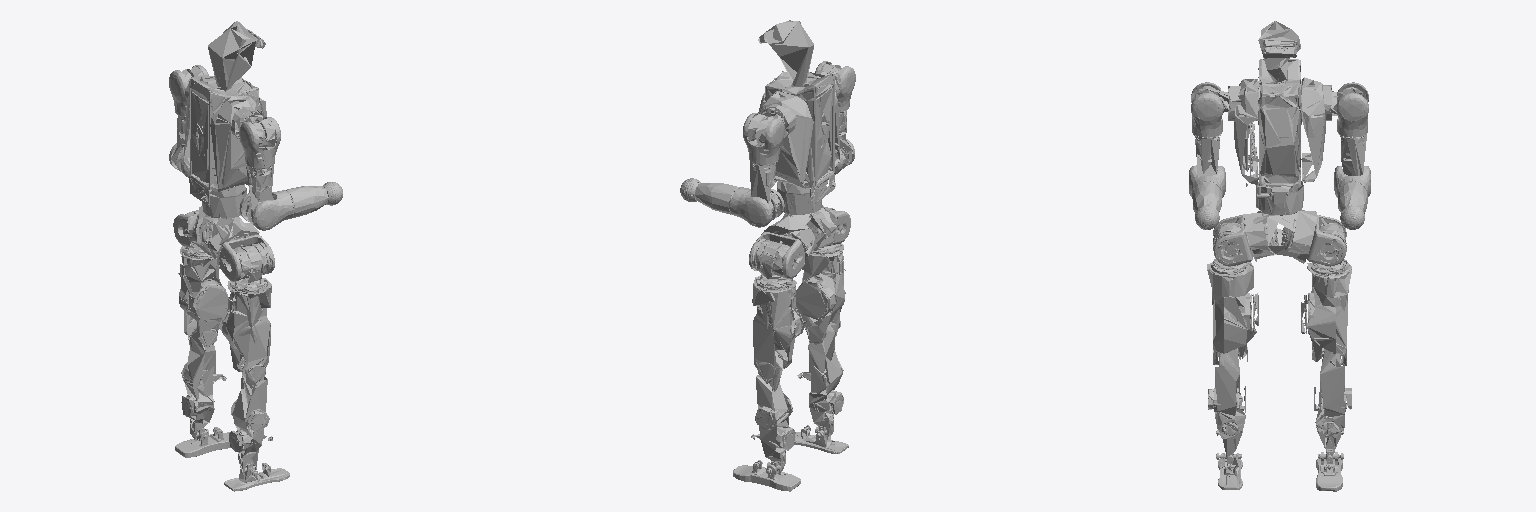
--- Render facts (derived) ---
3 views of the same robot in one strip: view 1: azimuth 30°, elevation 25°; view 2: azimuth 150°, elevation 25°; view 3: azimuth 270°, elevation 25° (orthographic).
Robot: GRMini1T1 — 29 links, 28 joints (23 revolute, 5 fixed); root link base_link; default pose: every joint at zero.
Visible links, largest first — view 1: torso_link, right_thigh_yaw_link, left_thigh_yaw_link, left_shank_pitch_link, right_shank_pitch_link, base_link, right_thigh_roll_link, right_lower_arm_pitch_link, right_upper_arm_roll_link, right_upper_arm_yaw_link, waist_yaw_link, right_thigh_pitch_link (+5 smaller); view 2: torso_link, left_thigh_yaw_link, right_thigh_yaw_link, right_shank_pitch_link, left_shank_pitch_link, base_link, left_thigh_roll_link, left_lower_arm_pitch_link, left_upper_arm_roll_link, left_foot_pitch_link, left_upper_arm_yaw_link, left_thigh_pitch_link (+5 smaller); view 3: torso_link, right_thigh_yaw_link, left_thigh_yaw_link, base_link, right_shank_pitch_link, left_shank_pitch_link, left_upper_arm_roll_link, right_upper_arm_roll_link, right_thigh_pitch_link, left_thigh_pitch_link, left_upper_arm_yaw_link, waist_yaw_link (+9 smaller).
Link boxes in pixels (left/top/right/bottom): torso_link: left=184, top=21, right=266, bottom=206; right_thigh_yaw_link: left=219, top=278, right=271, bottom=385; left_thigh_yaw_link: left=178, top=246, right=228, bottom=347; left_shank_pitch_link: left=181, top=319, right=226, bottom=438; right_shank_pitch_link: left=229, top=360, right=272, bottom=473; base_link: left=188, top=206, right=259, bottom=264; right_thigh_roll_link: left=230, top=242, right=271, bottom=287; right_lower_arm_pitch_link: left=239, top=190, right=293, bottom=230; right_upper_arm_roll_link: left=239, top=117, right=280, bottom=167; right_upper_arm_yaw_link: left=245, top=164, right=273, bottom=224; waist_yaw_link: left=202, top=185, right=246, bottom=218; right_thigh_pitch_link: left=219, top=235, right=274, bottom=281; torso_link: left=758, top=20, right=839, bottom=203; left_thigh_yaw_link: left=752, top=276, right=806, bottom=383; right_thigh_yaw_link: left=794, top=243, right=845, bottom=344; right_shank_pitch_link: left=797, top=320, right=843, bottom=436; left_shank_pitch_link: left=751, top=351, right=795, bottom=470; base_link: left=764, top=205, right=836, bottom=259; left_thigh_roll_link: left=752, top=239, right=794, bottom=285; left_lower_arm_pitch_link: left=730, top=187, right=784, bottom=227; left_upper_arm_roll_link: left=743, top=113, right=784, bottom=164; left_foot_pitch_link: left=733, top=460, right=800, bottom=491; left_upper_arm_yaw_link: left=750, top=161, right=780, bottom=220; left_thigh_pitch_link: left=749, top=232, right=804, bottom=278; torso_link: left=1228, top=21, right=1331, bottom=192; right_thigh_yaw_link: left=1207, top=262, right=1258, bottom=364; left_thigh_yaw_link: left=1301, top=262, right=1351, bottom=365; base_link: left=1243, top=210, right=1316, bottom=263; right_shank_pitch_link: left=1208, top=348, right=1245, bottom=456; left_shank_pitch_link: left=1314, top=348, right=1351, bottom=453; left_upper_arm_roll_link: left=1336, top=82, right=1368, bottom=137; right_upper_arm_roll_link: left=1191, top=82, right=1223, bottom=137; right_thigh_pitch_link: left=1213, top=215, right=1252, bottom=265; left_thigh_pitch_link: left=1307, top=215, right=1346, bottom=265; left_upper_arm_yaw_link: left=1338, top=133, right=1366, bottom=175; waist_yaw_link: left=1256, top=181, right=1303, bottom=214.
Bounding box of the posed robot: 0.3216 × 0.4412 × 1.21 m (x, y, z).
Meshes: 29 distinct files referenced, 29 mesh visuals loaded (29 binary STL).

The robot description file, URDF, robot "GRMini1T1":
<?xml version="1.0" encoding="utf-8"?>
<!-- This URDF was automatically created by SolidWorks to URDF Exporter! Originally created by Stephen Brawner ([email redacted]) 
     Commit Version: 1.6.0-4-g7f85cfe  Build Version: 1.6.7995.38578
     For more information, please see http://wiki.ros.org/sw_urdf_exporter -->
<robot
        name="GRMini1T1">
    <link
            name="base_link">
        <inertial>
            <origin
                    xyz="-0.00058375 -1.4517E-06 -0.063447"
                    rpy="0 0 0"/>
            <mass
                    value="3.1357"/>
            <inertia
                    ixx="0.0095393"
                    ixy="-2.156E-05"
                    ixz="-8E-08"
                    iyy="0.013549"
                    iyz="-3.997E-05"
                    izz="0.010053"/>
        </inertial>
        <visual>
            <origin
                    xyz="0 0 0"
                    rpy="0 0 0"/>
            <geometry>
                <mesh
                        filename="../meshes/base_link.STL"/>
            </geometry>
            <material
                    name="">
                <color
                        rgba="0.75294 0.75294 0.75294 1"/>
            </material>
        </visual>
        <collision>
            <origin
                    xyz="0 0 0"
                    rpy="0 0 0"/>
            <geometry>
                <mesh
                        filename="../meshes/base_link.STL"/>
            </geometry>
        </collision>
    </link>
    <link
            name="waist_yaw_link">
        <inertial>
            <origin
                    xyz="-0.0022054 0.00010046 0.025305"
                    rpy="0 0 0"/>
            <mass
                    value="0.92522"/>
            <inertia
                    ixx="0.001509"
                    ixy="-2.322E-05"
                    ixz="9.2E-07"
                    iyy="0.0012082"
                    iyz="2.75E-06"
                    izz="0.001278"/>
        </inertial>
        <visual>
            <origin
                    xyz="0 0 0"
                    rpy="0 0 0"/>
            <geometry>
                <mesh
                        filename="../meshes/waist_yaw_link.STL"/>
            </geometry>
            <material
                    name="">
                <color
                        rgba="0.75294 0.75294 0.75294 1"/>
            </material>
        </visual>
        <collision>
            <origin
                    xyz="0 0 0"
                    rpy="0 0 0"/>
            <geometry>
                <mesh
                        filename="../meshes/waist_yaw_link.STL"/>
            </geometry>
        </collision>
    </link>
    <joint
            name="waist_yaw_joint"
            type="revolute">
        <origin
                xyz="0 0 0.015"
                rpy="0 0 0"/>
        <parent
                link="base_link"/>
        <child
                link="waist_yaw_link"/>
        <axis
                xyz="0 0 1"/>
        <limit
                lower="-2.618"
                upper="2.618"
                effort="59.8"
                velocity="12.252"/>
    </joint>
    <link
            name="torso_link">
        <inertial>
            <origin
                    xyz="0.0041208 0.0024646 -0.051503"
                    rpy="0 0 0"/>
            <mass
                    value="7.84667176"/>
            <inertia
                    ixx="0.03712429"
                    ixy="-0.00061932"
                    ixz="0.00101372"
                    iyy="0.08563448"
                    iyz="-0.00036419"
                    izz="0.07498642"/>
        </inertial>
        <visual>
            <origin
                    xyz="0 0 0"
                    rpy="0 0 0"/>
            <geometry>
                <mesh
                        filename="../meshes/torso_link.STL"/>
            </geometry>
            <material
                    name="">
                <color
                        rgba="0.75294 0.75294 0.75294 1"/>
            </material>
        </visual>
        <collision>
            <origin
                    xyz="0 0 0"
                    rpy="0 0 0"/>
            <geometry>
                <mesh
                        filename="../meshes/torso_link.STL"/>
            </geometry>
        </collision>
    </link>
    <joint
            name="torso_joint"
            type="fixed">
        <origin
                xyz="0 0 0.2604"
                rpy="0 0 0"/>
        <parent
                link="waist_yaw_link"/>
        <child
                link="torso_link"/>
        <axis
                xyz="0 0 0"/>
    </joint>
    <link
            name="imu_link">
        <inertial>
            <origin
                    xyz="5.3169E-08 -0.0070317 0.0021507"
                    rpy="0 0 0"/>
            <mass
                    value="0.0417145"/>
            <inertia
                    ixx="2.651E-05"
                    ixy="0"
                    ixz="-2.8E-07"
                    iyy="2.209E-05"
                    iyz="0"
                    izz="1.049E-05"/>
        </inertial>
        <visual>
            <origin
                    xyz="0 0 0"
                    rpy="0 0 0"/>
            <geometry>
                <mesh
                        filename="../meshes/imu_link.STL"/>
            </geometry>
            <material
                    name="">
                <color
                        rgba="0.75294 0.75294 0.75294 1"/>
            </material>
        </visual>
        <collision>
            <origin
                    xyz="0 0 0"
                    rpy="0 0 0"/>
            <geometry>
                <mesh
                        filename="../meshes/imu_link.STL"/>
            </geometry>
        </collision>
    </link>
    <joint
            name="imu_joint"
            type="fixed">
        <origin
                xyz="0.07875 0 -0.2068"
                rpy="0 0 0"/>
        <parent
                link="torso_link"/>
        <child
                link="imu_link"/>
        <axis
                xyz="0 0 0"/>
    </joint>
    <link
            name="camera_link">
        <inertial>
            <origin
                    xyz="0.0099227 0.0014966 8.1692E-05"
                    rpy="0 0 0"/>
            <mass
                    value="0.0985531"/>
            <inertia
                    ixx="5.333E-05"
                    ixy="1.41E-06"
                    ixz="2.37E-05"
                    iyy="6.584E-05"
                    iyz="6.7E-07"
                    izz="2.601E-05"/>
        </inertial>
        <visual>
            <origin
                    xyz="0 0 0"
                    rpy="0 0 0"/>
            <geometry>
                <mesh
                        filename="../meshes/camera_link.STL"/>
            </geometry>
            <material
                    name="">
                <color
                        rgba="0.75294 0.75294 0.75294 1"/>
            </material>
        </visual>
        <collision>
            <origin
                    xyz="0 0 0"
                    rpy="0 0 0"/>
            <geometry>
                <mesh
                        filename="../meshes/camera_link.STL"/>
            </geometry>
        </collision>
    </link>
    <joint
            name="camera_joint"
            type="fixed">
        <origin
                xyz="0.071504 0 0.1798"
                rpy="0 0.5236 0"/>
        <parent
                link="torso_link"/>
        <child
                link="camera_link"/>
        <axis
                xyz="0 0 0"/>
    </joint>
    <link
            name="left_upper_arm_pitch_link">
        <inertial>
            <origin
                    xyz="0.0004349 0.07265 6.9487E-06"
                    rpy="0 0 0"/>
            <mass
                    value="0.88423"/>
            <inertia
                    ixx="0.0018303"
                    ixy="-1E-07"
                    ixz="1.154E-05"
                    iyy="0.0018418"
                    iyz="-6.2E-07"
                    izz="0.00062558"/>
        </inertial>
        <visual>
            <origin
                    xyz="0 0 0"
                    rpy="0 0 0"/>
            <geometry>
                <mesh
                        filename="../meshes/left_upper_arm_pitch_link.STL"/>
            </geometry>
            <material
                    name="">
                <color
                        rgba="0.75294 0.75294 0.75294 1"/>
            </material>
        </visual>
        <collision>
            <origin
                    xyz="0 0 0"
                    rpy="0 0 0"/>
            <geometry>
                <mesh
                        filename="../meshes/left_upper_arm_pitch_link.STL"/>
            </geometry>
        </collision>
    </link>
    <joint
            name="left_shoulder_pitch_joint"
            type="revolute">
        <origin
                xyz="0 0.09365 0"
                rpy="0 0 0"/>
        <parent
                link="torso_link"/>
        <child
                link="left_upper_arm_pitch_link"/>
        <axis
                xyz="0 1 0"/>
        <limit
                lower="-2.967"
                upper="2.967"
                effort="59.8"
                velocity="12.252"/>
    </joint>
    <link
            name="left_upper_arm_roll_link">
        <inertial>
            <origin
                    xyz="0.0071999 0.00095188 -0.031174"
                    rpy="0 0 0"/>
            <mass
                    value="0.71516"/>
            <inertia
                    ixx="0.001714"
                    ixy="-0.00014319"
                    ixz="5E-07"
                    iyy="0.00041667"
                    iyz="-4.08E-06"
                    izz="0.0018111"/>
        </inertial>
        <visual>
            <origin
                    xyz="0 0 0"
                    rpy="0 0 0"/>
            <geometry>
                <mesh
                        filename="../meshes/left_upper_arm_roll_link.STL"/>
            </geometry>
            <material
                    name="">
                <color
                        rgba="0.75294 0.75294 0.75294 1"/>
            </material>
        </visual>
        <collision>
            <origin
                    xyz="0 0 0"
                    rpy="0 0 0"/>
            <geometry>
                <mesh
                        filename="../meshes/left_upper_arm_roll_link.STL"/>
            </geometry>
        </collision>
    </link>
    <joint
            name="left_shoulder_roll_joint"
            type="revolute">
        <origin
                xyz="0 0.082 0"
                rpy="0 0 0"/>
        <parent
                link="left_upper_arm_pitch_link"/>
        <child
                link="left_upper_arm_roll_link"/>
        <axis
                xyz="1 0 0"/>
        <limit
                lower="-0.175"
                upper="2.792"
                effort="29.3"
                velocity="13.927"/>
    </joint>
    <link
            name="left_upper_arm_yaw_link">
        <inertial>
            <origin
                    xyz="-0.00024227 -6.5025E-05 -0.055988"
                    rpy="0 0 0"/>
            <mass
                    value="0.91461"/>
            <inertia
                    ixx="0.0030946"
                    ixy="4.01E-06"
                    ixz="2.64E-06"
                    iyy="0.00073776"
                    iyz="-1.877E-05"
                    izz="0.0030869"/>
        </inertial>
        <visual>
            <origin
                    xyz="0 0 0"
                    rpy="0 0 0"/>
            <geometry>
                <mesh
                        filename="../meshes/left_upper_arm_yaw_link.STL"/>
            </geometry>
            <material
                    name="">
                <color
                        rgba="0.75294 0.75294 0.75294 1"/>
            </material>
        </visual>
        <collision>
            <origin
                    xyz="0 0 0"
                    rpy="0 0 0"/>
            <geometry>
                <mesh
                        filename="../meshes/left_upper_arm_yaw_link.STL"/>
            </geometry>
        </collision>
    </link>
    <joint
            name="left_shoulder_yaw_joint"
            type="revolute">
        <origin
                xyz="0 0 -0.105"
                rpy="0 0 0"/>
        <parent
                link="left_upper_arm_roll_link"/>
        <child
                link="left_upper_arm_yaw_link"/>
        <axis
                xyz="0 0 1"/>
        <limit
                lower="-1.833"
                upper="1.833"
                effort="29.3"
                velocity="13.927"/>
    </joint>
    <link
            name="left_lower_arm_pitch_link">
        <inertial>
            <origin
                    xyz="0.031249 0.0068387 -0.00086783"
                    rpy="0 0 0"/>
            <mass
                    value="0.71626"/>
            <inertia
                    ixx="0.00041877"
                    ixy="-5E-06"
                    ixz="0.00014466"
                    iyy="0.0018113"
                    iyz="-8.1E-07"
                    izz="0.0017159"/>
        </inertial>
        <visual>
            <origin
                    xyz="0 0 0"
                    rpy="0 0 0"/>
            <geometry>
                <mesh
                        filename="../meshes/left_lower_arm_pitch_link.STL"/>
            </geometry>
            <material
                    name="">
                <color
                        rgba="0.75294 0.75294 0.75294 1"/>
            </material>
        </visual>
        <collision>
            <origin
                    xyz="0 0 0"
                    rpy="0 0 0"/>
            <geometry>
                <mesh
                        filename="../meshes/left_lower_arm_pitch_link.STL"/>
            </geometry>
        </collision>
    </link>
    <joint
            name="left_elbow_pitch_joint"
            type="revolute">
        <origin
                xyz="0 0 -0.105"
                rpy="0 0 0"/>
        <parent
                link="left_upper_arm_yaw_link"/>
        <child
                link="left_lower_arm_pitch_link"/>
        <axis
                xyz="0 1 0"/>
        <limit
                lower="-0.314"
                upper="1.658"
                effort="29.3"
                velocity="13.927"/>
    </joint>
    <link
            name="left_hand_yaw_link">
        <inertial>
            <origin
                    xyz="0.010273 0.00011318 -0.00011362"
                    rpy="0 0 0"/>
            <mass
                    value="0.47586"/>
            <inertia
                    ixx="0.00036505"
                    ixy="-2.04E-06"
                    ixz="1.4E-07"
                    iyy="0.00051905"
                    iyz="-1.34E-06"
                    izz="0.0005199"/>
        </inertial>
        <visual>
            <origin
                    xyz="0 0 0"
                    rpy="0 0 0"/>
            <geometry>
                <mesh
                        filename="../meshes/left_hand_yaw_link.STL"/>
            </geometry>
            <material
                    name="">
                <color
                        rgba="0.75294 0.75294 0.75294 1"/>
            </material>
        </visual>
        <collision>
            <origin
                    xyz="0 0 0"
                    rpy="0 0 0"/>
            <geometry>
                <mesh
                        filename="../meshes/left_hand_yaw_link.STL"/>
            </geometry>
        </collision>
    </link>
    <joint
            name="left_wrist_yaw_joint"
            type="revolute">
        <origin
                xyz="0.105 0 0"
                rpy="0 0 0"/>
        <parent
                link="left_lower_arm_pitch_link"/>
        <child
                link="left_hand_yaw_link"/>
        <axis
                xyz="1 0 0"/>
        <limit
                lower="-1.833"
                upper="1.833"
                effort="29.3"
                velocity="13.927"/>
    </joint>
    <link
            name="left_end_effector_link">
        <inertial>
            <origin
                    xyz="0.022489 -2.5699E-12 3.3307E-16"
                    rpy="0 0 0"/>
            <mass
                    value="0.10135"/>
            <inertia
                    ixx="4.693E-05"
                    ixy="0"
                    ixz="0"
                    iyy="3.946E-05"
                    iyz="0"
                    izz="3.946E-05"/>
        </inertial>
        <visual>
            <origin
                    xyz="0 0 0"
                    rpy="0 0 0"/>
            <geometry>
                <mesh
                        filename="../meshes/left_end_effector_link.STL"/>
            </geometry>
            <material
                    name="">
                <color
                        rgba="0.75294 0.75294 0.75294 1"/>
            </material>
        </visual>
        <collision>
            <origin
                    xyz="0 0 0"
                    rpy="0 0 0"/>
            <geometry>
                <mesh
                        filename="../meshes/left_end_effector_link.STL"/>
            </geometry>
        </collision>
    </link>
    <joint
            name="left_end_effector_joint"
            type="fixed">
        <origin
                xyz="0.08 0 0"
                rpy="0 0 0"/>
        <parent
                link="left_hand_yaw_link"/>
        <child
                link="left_end_effector_link"/>
        <axis
                xyz="0 0 0"/>
    </joint>
    <link
            name="right_upper_arm_pitch_link">
        <inertial>
            <origin
                    xyz="0.00043469 -0.072654 -9.14E-06"
                    rpy="0 0 0"/>
            <mass
                    value="0.88423"/>
            <inertia
                    ixx="0.00183029"
                    ixy="-3.7E-07"
                    ixz="-1.164E-05"
                    iyy="0.00184169"
                    iyz="1.11E-06"
                    izz="0.00062587"/>
        </inertial>
        <visual>
            <origin
                    xyz="0 0 0"
                    rpy="0 0 0"/>
            <geometry>
                <mesh
                        filename="../meshes/right_upper_arm_pitch_link.STL"/>
            </geometry>
            <material
                    name="">
                <color
                        rgba="0.75294 0.75294 0.75294 1"/>
            </material>
        </visual>
        <collision>
            <origin
                    xyz="0 0 0"
                    rpy="0 0 0"/>
            <geometry>
                <mesh
                        filename="../meshes/right_upper_arm_pitch_link.STL"/>
            </geometry>
        </collision>
    </link>
    <joint
            name="right_shoulder_pitch_joint"
            type="revolute">
        <origin
                xyz="0 -0.09365 0"
                rpy="0 0 0"/>
        <parent
                link="torso_link"/>
        <child
                link="right_upper_arm_pitch_link"/>
        <axis
                xyz="0 1 0"/>
        <limit
                lower="-2.967"
                upper="2.967"
                effort="59.8"
                velocity="12.252"/>
    </joint>
    <link
            name="right_upper_arm_roll_link">
        <inertial>
            <origin
                    xyz="0.0070543 -0.0010248 -0.031296"
                    rpy="0 0 0"/>
            <mass
                    value="0.71516"/>
            <inertia
                    ixx="0.0017137"
                    ixy="-0.00014381"
                    ixz="-6.9E-07"
                    iyy="0.00041734"
                    iyz="3.34E-06"
                    izz="0.00181137"/>
        </inertial>
        <visual>
            <origin
                    xyz="0 0 0"
                    rpy="0 0 0"/>
            <geometry>
                <mesh
                        filename="../meshes/right_upper_arm_roll_link.STL"/>
            </geometry>
            <material
                    name="">
                <color
                        rgba="0.75294 0.75294 0.75294 1"/>
            </material>
        </visual>
        <collision>
            <origin
                    xyz="0 0 0"
                    rpy="0 0 0"/>
            <geometry>
                <mesh
                        filename="../meshes/right_upper_arm_roll_link.STL"/>
            </geometry>
        </collision>
    </link>
    <joint
            name="right_shoulder_roll_joint"
            type="revolute">
        <origin
                xyz="0 -0.082 0"
                rpy="0 0 0"/>
        <parent
                link="right_upper_arm_pitch_link"/>
        <child
                link="right_upper_arm_roll_link"/>
        <axis
                xyz="1 0 0"/>
        <limit
                lower="-2.792"
                upper="0.175"
                effort="29.3"
                velocity="13.927"/>
    </joint>
    <link
            name="right_upper_arm_yaw_link">
        <inertial>
            <origin
                    xyz="-0.00021358 0.0014607 -0.06011"
                    rpy="0 0 0"/>
            <mass
                    value="0.91461"/>
            <inertia
                    ixx="0.0030941"
                    ixy="3.11E-06"
                    ixz="-2.19E-06"
                    iyy="0.00073751"
                    iyz="1.915E-05"
                    izz="0.0030871"/>
        </inertial>
        <visual>
            <origin
                    xyz="0 0 0"
                    rpy="0 0 0"/>
            <geometry>
                <mesh
                        filename="../meshes/right_upper_arm_yaw_link.STL"/>
            </geometry>
            <material
                    name="">
                <color
                        rgba="0.75294 0.75294 0.75294 1"/>
            </material>
        </visual>
        <collision>
            <origin
                    xyz="0 0 0"
                    rpy="0 0 0"/>
            <geometry>
                <mesh
                        filename="../meshes/right_upper_arm_yaw_link.STL"/>
            </geometry>
        </collision>
    </link>
    <joint
            name="right_shoulder_yaw_joint"
            type="revolute">
        <origin
                xyz="0 0 -0.105"
                rpy="0 0 0"/>
        <parent
                link="right_upper_arm_roll_link"/>
        <child
                link="right_upper_arm_yaw_link"/>
        <axis
                xyz="0 0 1"/>
        <limit
                lower="-1.833"
                upper="1.833"
                effort="29.3"
                velocity="13.927"/>
    </joint>
    <link
            name="right_lower_arm_pitch_link">
        <inertial>
            <origin
                    xyz="0.031259 -0.0068423 -0.00084165"
                    rpy="0 0 0"/>
            <mass
                    value="0.71626"/>
            <inertia
                    ixx="0.00041415"
                    ixy="-4.12E-06"
                    ixz="-0.00014499"
                    iyy="0.00181012"
                    iyz="2.8E-07"
                    izz="0.00171129"/>
        </inertial>
        <visual>
            <origin
                    xyz="0 0 0"
                    rpy="0 0 0"/>
            <geometry>
                <mesh
                        filename="../meshes/right_lower_arm_pitch_link.STL"/>
            </geometry>
            <material
                    name="">
                <color
                        rgba="0.75294 0.75294 0.75294 1"/>
            </material>
        </visual>
        <collision>
            <origin
                    xyz="0 0 0"
                    rpy="0 0 0"/>
            <geometry>
                <mesh
                        filename="../meshes/right_lower_arm_pitch_link.STL"/>
            </geometry>
        </collision>
    </link>
    <joint
            name="right_elbow_pitch_joint"
            type="revolute">
        <origin
                xyz="0 0 -0.105"
                rpy="0 0 0"/>
        <parent
                link="right_upper_arm_yaw_link"/>
        <child
                link="right_lower_arm_pitch_link"/>
        <axis
                xyz="0 1 0"/>
        <limit
                lower="-0.314"
                upper="1.658"
                effort="29.3"
                velocity="13.927"/>
    </joint>
    <link
            name="right_hand_yaw_link">
        <inertial>
            <origin
                    xyz="0.010273 0.00011164 -0.00011513"
                    rpy="0 0 0"/>
            <mass
                    value="0.47586"/>
            <inertia
                    ixx="0.00036505"
                    ixy="-2.04E-06"
                    ixz="1.2E-07"
                    iyy="0.00051909"
                    iyz="-1.35E-06"
                    izz="0.00051986"/>
        </inertial>
        <visual>
            <origin
                    xyz="0 0 0"
                    rpy="0 0 0"/>
            <geometry>
                <mesh
                        filename="../meshes/right_hand_yaw_link.STL"/>
            </geometry>
            <material
                    name="">
                <color
                        rgba="0.75294 0.75294 0.75294 1"/>
            </material>
        </visual>
        <collision>
            <origin
                    xyz="0 0 0"
                    rpy="0 0 0"/>
            <geometry>
                <mesh
                        filename="../meshes/right_hand_yaw_link.STL"/>
            </geometry>
        </collision>
    </link>
    <joint
            name="right_wrist_yaw_joint"
            type="revolute">
        <origin
                xyz="0.105 0 0"
                rpy="0 0 0"/>
        <parent
                link="right_lower_arm_pitch_link"/>
        <child
                link="right_hand_yaw_link"/>
        <axis
                xyz="1 0 0"/>
        <limit
                lower="-1.833"
                upper="1.833"
                effort="29.3"
                velocity="13.927"/>
    </joint>
    <link
            name="right_end_effector_link">
        <inertial>
            <origin
                    xyz="0.02257 -7.952E-14 -6.3018E-13"
                    rpy="0 0 0"/>
            <mass
                    value="0.10135"/>
            <inertia
                    ixx="4.686E-05"
                    ixy="0"
                    ixz="0"
                    iyy="3.928E-05"
                    iyz="0"
                    izz="3.928E-05"/>
        </inertial>
        <visual>
            <origin
                    xyz="0 0 0"
                    rpy="0 0 0"/>
            <geometry>
                <mesh
                        filename="../meshes/right_end_effector_link.STL"/>
            </geometry>
            <material
                    name="">
                <color
                        rgba="0.75294 0.75294 0.75294 1"/>
            </material>
        </visual>
        <collision>
            <origin
                    xyz="0 0 0"
                    rpy="0 0 0"/>
            <geometry>
                <mesh
                        filename="../meshes/right_end_effector_link.STL"/>
            </geometry>
        </collision>
    </link>
    <joint
            name="right_end_effector_joint"
            type="fixed">
        <origin
                xyz="0.08 0 0"
                rpy="0 0 0"/>
        <parent
                link="right_hand_yaw_link"/>
        <child
                link="right_end_effector_link"/>
        <axis
                xyz="0 0 0"/>
    </joint>
    <link
            name="left_thigh_pitch_link">
        <inertial>
            <origin
                    xyz="0.0019432 0.048293 0.00082926"
                    rpy="0 0 0"/>
            <mass
                    value="1.3008"/>
            <inertia
                    ixx="0.0023186"
                    ixy="4.62E-06"
                    ixz="0.00024593"
                    iyy="0.0020661"
                    iyz="-0.00010476"
                    izz="0.0013865"/>
        </inertial>
        <visual>
            <origin
                    xyz="0 0 0"
                    rpy="0 0 0"/>
            <geometry>
                <mesh
                        filename="../meshes/left_thigh_pitch_link.STL"/>
            </geometry>
            <material
                    name="">
                <color
                        rgba="0.75294 0.75294 0.75294 1"/>
            </material>
        </visual>
        <collision>
            <origin
                    xyz="0 0 0"
                    rpy="0 0 0"/>
            <geometry>
                <mesh
                        filename="../meshes/left_thigh_pitch_link.STL"/>
            </geometry>
        </collision>
    </link>
    <joint
            name="left_hip_pitch_joint"
            type="revolute">
        <origin
                xyz="0 0.048521 -0.076847"
                rpy="-0.2618 0 0"/>
        <parent
                link="base_link"/>
        <child
                link="left_thigh_pitch_link"/>
        <axis
                xyz="0 1 0"/>
        <limit
                lower="-2.618"
                upper="2.618"
                effort="96.7"
                velocity="10.891"/>
    </joint>
    <link
            name="left_thigh_roll_link">
        <inertial>
            <origin
                    xyz="-0.0037546 -2.1988E-05 -0.022317"
                    rpy="0 0 0"/>
            <mass
                    value="1.359"/>
            <inertia
                    ixx="0.0012551"
                    ixy="-7.925E-05"
                    ixz="1.4E-07"
                    iyy="0.0030174"
                    iyz="-2.62E-06"
                    izz="0.0028871"/>
        </inertial>
        <visual>
            <origin
                    xyz="0 0 0"
                    rpy="0 0 0"/>
            <geometry>
                <mesh
                        filename="../meshes/left_thigh_roll_link.STL"/>
            </geometry>
            <material
                    name="">
                <color
                        rgba="0.75294 0.75294 0.75294 1"/>
            </material>
        </visual>
        <collision>
            <origin
                    xyz="0 0 0"
                    rpy="0 0 0"/>
            <geometry>
                <mesh
                        filename="../meshes/left_thigh_roll_link.STL"/>
            </geometry>
        </collision>
    </link>
    <joint
            name="left_hip_roll_joint"
            type="revolute">
        <origin
                xyz="0 0.074 0"
                rpy="0.2618 0 0"/>
        <parent
                link="left_thigh_pitch_link"/>
        <child
                link="left_thigh_roll_link"/>
        <axis
                xyz="1 0 0"/>
        <limit
                lower="-0.262"
                upper="1.571"
                effort="59.8"
                velocity="12.252"/>
    </joint>
    <link
            name="left_thigh_yaw_link">
        <inertial>
            <origin
                    xyz="0.0043807 -0.0044838 -0.09162"
                    rpy="0 0 0"/>
            <mass
                    value="3.4519"/>
            <inertia
                    ixx="0.015956"
                    ixy="-0.00056889"
                    ixz="-7.21E-05"
                    iyy="0.0054953"
                    iyz="0.00067596"
                    izz="0.016255"/>
        </inertial>
        <visual>
            <origin
                    xyz="0 0 0"
                    rpy="0 0 0"/>
            <geometry>
                <mesh
                        filename="../meshes/left_thigh_yaw_link.STL"/>
            </geometry>
            <material
                    name="">
                <color
                        rgba="0.75294 0.75294 0.75294 1"/>
            </material>
        </visual>
        <collision>
            <origin
                    xyz="0 0 0"
                    rpy="0 0 0"/>
            <geometry>
                <mesh
                        filename="../meshes/left_thigh_yaw_link.STL"/>
            </geometry>
        </collision>
    </link>
    <joint
            name="left_hip_yaw_joint"
            type="revolute">
        <origin
                xyz="0 0 -0.0875"
                rpy="0 0 0"/>
        <parent
                link="left_thigh_roll_link"/>
        <child
                link="left_thigh_yaw_link"/>
        <axis
                xyz="0 0 1"/>
        <limit
                lower="-1.571"
                upper="1.571"
                effort="59.8"
                velocity="12.252"/>
    </joint>
    <link
            name="left_shank_pitch_link">
        <inertial>
            <origin
                    xyz="0.0040504 0.0024929 -0.11735"
                    rpy="0 0 0"/>
            <mass
                    value="2.3355"/>
            <inertia
                    ixx="0.013759"
                    ixy="0.00020374"
                    ixz="3.74E-05"
                    iyy="0.0017735"
                    iyz="0.00027894"
                    izz="0.013757"/>
        </inertial>
        <visual>
            <origin
                    xyz="0 0 0"
                    rpy="0 0 0"/>
            <geometry>
                <mesh
                        filename="../meshes/left_shank_pitch_link.STL"/>
            </geometry>
            <material
                    name="">
                <color
                        rgba="0.75294 0.75294 0.75294 1"/>
            </material>
        </visual>
        <collision>
            <origin
                    xyz="0 0 0"
                    rpy="0 0 0"/>
            <geometry>
                <mesh
                        filename="../meshes/left_shank_pitch_link.STL"/>
            </geometry>
        </collision>
    </link>
    <joint
            name="left_knee_pitch_joint"
            type="revolute">
        <origin
                xyz="0 0 -0.2031"
                rpy="0 0 0"/>
        <parent
                link="left_thigh_yaw_link"/>
        <child
                link="left_shank_pitch_link"/>
        <axis
                xyz="0 1 0"/>
        <limit
                lower="-0.087"
                upper="2.356"
                effort="96.7"
                velocity="10.891"/>
    </joint>
    <link
            name="left_foot_roll_link">
        <inertial>
            <origin
                    xyz="6.6608E-09 0.001805 -5.856E-07"
                    rpy="0 0 0"/>
            <mass
                    value="0.11173"/>
            <inertia
                    ixx="2.445E-05"
                    ixy="0"
                    ixz="0"
                    iyy="2.876E-05"
                    iyz="0"
                    izz="1.162E-05"/>
        </inertial>
        <visual>
            <origin
                    xyz="0 0 0"
                    rpy="0 0 0"/>
            <geometry>
                <mesh
                        filename="../meshes/left_foot_roll_link.STL"/>
            </geometry>
            <material
                    name="">
                <color
                        rgba="0.75294 0.75294 0.75294 1"/>
            </material>
        </visual>
        <collision>
            <origin
                    xyz="0 0 0"
                    rpy="0 0 0"/>
            <geometry>
                <mesh
                        filename="../meshes/left_foot_roll_link.STL"/>
            </geometry>
        </collision>
    </link>
    <joint
            name="left_ankle_roll_joint"
            type="revolute">
        <origin
                xyz="0 0 -0.28"
                rpy="0 0 0"/>
        <parent
                link="left_shank_pitch_link"/>
        <child
                link="left_foot_roll_link"/>
        <axis
                xyz="1 0 0"/>
        <limit
                lower="-0.436"
                upper="0.436"
                effort="29.3"
                velocity="13.927"/>
    </joint>
    <link
            name="left_foot_pitch_link">
        <inertial>
            <origin
                    xyz="0.023432 -0.0001521 -0.030678"
                    rpy="0 0 0"/>
            <mass
                    value="0.39067"/>
            <inertia
                    ixx="0.00014047"
                    ixy="3.02E-06"
                    ixz="4.13E-06"
                    iyy="0.00089535"
                    iyz="4.9E-07"
                    izz="0.00083373"/>
        </inertial>
        <visual>
            <origin
                    xyz="0 0 0"
                    rpy="0 0 0"/>
            <geometry>
                <mesh
                        filename="../meshes/left_foot_pitch_link.STL"/>
            </geometry>
            <material
                    name="">
                <color
                        rgba="0.75294 0.75294 0.75294 1"/>
            </material>
        </visual>
        <collision>
            <origin
                    xyz="0 0 0"
                    rpy="0 0 0"/>
            <geometry>
                <mesh
                        filename="../meshes/left_foot_pitch_link.STL"/>
            </geometry>
        </collision>
    </link>
    <joint
            name="left_ankle_pitch_joint"
            type="revolute">
        <origin
                xyz="0 0 0"
                rpy="0 0 0"/>
        <parent
                link="left_foot_roll_link"/>
        <child
                link="left_foot_pitch_link"/>
        <axis
                xyz="0 1 0"/>
        <limit
                lower="-0.96"
                upper="0.838"
                effort="29.3"
                velocity="13.927"/>
    </joint>
    <link
            name="right_thigh_pitch_link">
        <inertial>
            <origin
                    xyz="0.001947 -0.048292 0.00082948"
                    rpy="0 0 0"/>
            <mass
                    value="1.3008"/>
            <inertia
                    ixx="0.0023186"
                    ixy="4.64E-06"
                    ixz="-0.00024594"
                    iyy="0.0020661"
                    iyz="0.00010474"
                    izz="0.0013865"/>
        </inertial>
        <visual>
            <origin
                    xyz="0 0 0"
                    rpy="0 0 0"/>
            <geometry>
                <mesh
                        filename="../meshes/right_thigh_pitch_link.STL"/>
            </geometry>
            <material
                    name="">
                <color
                        rgba="0.75294 0.75294 0.75294 1"/>
            </material>
        </visual>
        <collision>
            <origin
                    xyz="0 0 0"
                    rpy="0 0 0"/>
            <geometry>
                <mesh
                        filename="../meshes/right_thigh_pitch_link.STL"/>
            </geometry>
        </collision>
    </link>
    <joint
            name="right_hip_pitch_joint"
            type="revolute">
        <origin
                xyz="0 -0.048521 -0.076847"
                rpy="0.2618 0 0"/>
        <parent
                link="base_link"/>
        <child
                link="right_thigh_pitch_link"/>
        <axis
                xyz="0 1 0"/>
        <limit
                lower="-2.618"
                upper="2.618"
                effort="96.7"
                velocity="10.891"/>
    </joint>
    <link
            name="right_thigh_roll_link">
        <inertial>
            <origin
                    xyz="-0.003738 -2.2055E-05 -0.022317"
                    rpy="0 0 0"/>
            <mass
                    value="1.359"/>
            <inertia
                    ixx="0.00125504"
                    ixy="-7.906E-05"
                    ixz="1.3E-07"
                    iyy="0.00301739"
                    iyz="-2.62E-06"
                    izz="0.0028871"/>
        </inertial>
        <visual>
            <origin
                    xyz="0 0 0"
                    rpy="0 0 0"/>
            <geometry>
                <mesh
                        filename="../meshes/right_thigh_roll_link.STL"/>
            </geometry>
            <material
                    name="">
                <color
                        rgba="0.75294 0.75294 0.75294 1"/>
            </material>
        </visual>
        <collision>
            <origin
                    xyz="0 0 0"
                    rpy="0 0 0"/>
            <geometry>
                <mesh
                        filename="../meshes/right_thigh_roll_link.STL"/>
            </geometry>
        </collision>
    </link>
    <joint
            name="right_hip_roll_joint"
            type="revolute">
        <origin
                xyz="0 -0.074 0"
                rpy="-0.2618 0 0"/>
        <parent
                link="right_thigh_pitch_link"/>
        <child
                link="right_thigh_roll_link"/>
        <axis
                xyz="1 0 0"/>
        <limit
                lower="-1.571"
                upper="0.262"
                effort="59.8"
                velocity="12.252"/>
    </joint>
    <link
            name="right_thigh_yaw_link">
        <inertial>
            <origin
                    xyz="0.0042717 0.0044788 -0.09162"
                    rpy="0 0 0"/>
            <mass
                    value="3.4519"/>
            <inertia
                    ixx="0.01595641"
                    ixy="-0.00057571"
                    ixz="8.994E-05"
                    iyy="0.00549538"
                    iyz="-0.00067874"
                    izz="0.0162559"/>
        </inertial>
        <visual>
            <origin
                    xyz="0 0 0"
                    rpy="0 0 0"/>
            <geometry>
                <mesh
                        filename="../meshes/right_thigh_yaw_link.STL"/>
            </geometry>
            <material
                    name="">
                <color
                        rgba="0.75294 0.75294 0.75294 1"/>
            </material>
        </visual>
        <collision>
            <origin
                    xyz="0 0 0"
                    rpy="0 0 0"/>
            <geometry>
                <mesh
                        filename="../meshes/right_thigh_yaw_link.STL"/>
            </geometry>
        </collision>
    </link>
    <joint
            name="right_hip_yaw_joint"
            type="revolute">
        <origin
                xyz="0 0 -0.0875"
                rpy="0 0 0"/>
        <parent
                link="right_thigh_roll_link"/>
        <child
                link="right_thigh_yaw_link"/>
        <axis
                xyz="0 0 1"/>
        <limit
                lower="-1.571"
                upper="1.571"
                effort="59.8"
                velocity="12.252"/>
    </joint>
    <link
            name="right_shank_pitch_link">
        <inertial>
            <origin
                    xyz="0.0040923 -0.002519 -0.1174"
                    rpy="0 0 0"/>
            <mass
                    value="2.3355"/>
            <inertia
                    ixx="0.013762"
                    ixy="0.00020219"
                    ixz="-3.75E-05"
                    iyy="0.0017789"
                    iyz="-0.00028062"
                    izz="0.013763"/>
        </inertial>
        <visual>
            <origin
                    xyz="0 0 0"
                    rpy="0 0 0"/>
            <geometry>
                <mesh
                        filename="../meshes/right_shank_pitch_link.STL"/>
            </geometry>
            <material
                    name="">
                <color
                        rgba="0.75294 0.75294 0.75294 1"/>
            </material>
        </visual>
        <collision>
            <origin
                    xyz="0 0 0"
                    rpy="0 0 0"/>
            <geometry>
                <mesh
                        filename="../meshes/right_shank_pitch_link.STL"/>
            </geometry>
        </collision>
    </link>
    <joint
            name="right_knee_pitch_joint"
            type="revolute">
        <origin
                xyz="0 0 -0.2031"
                rpy="0 0 0"/>
        <parent
                link="right_thigh_yaw_link"/>
        <child
                link="right_shank_pitch_link"/>
        <axis
                xyz="0 1 0"/>
        <limit
                lower="-0.087"
                upper="2.356"
                effort="96.7"
                velocity="10.891"/>
    </joint>
    <link
            name="right_foot_roll_link">
        <inertial>
            <origin
                    xyz="6.881E-09 -0.0018059 -1.0471E-12"
                    rpy="0 0 0"/>
            <mass
                    value="0.11173"/>
            <inertia
                    ixx="2.445E-05"
                    ixy="0"
                    ixz="0"
                    iyy="2.876E-05"
                    iyz="0"
                    izz="1.162E-05"/>
        </inertial>
        <visual>
            <origin
                    xyz="0 0 0"
                    rpy="0 0 0"/>
            <geometry>
                <mesh
                        filename="../meshes/right_foot_roll_link.STL"/>
            </geometry>
            <material
                    name="">
                <color
                        rgba="0.75294 0.75294 0.75294 1"/>
            </material>
        </visual>
        <collision>
            <origin
                    xyz="0 0 0"
                    rpy="0 0 0"/>
            <geometry>
                <mesh
                        filename="../meshes/right_foot_roll_link.STL"/>
            </geometry>
        </collision>
    </link>
    <joint
            name="right_ankle_roll_joint"
            type="revolute">
        <origin
                xyz="0 0 -0.28"
                rpy="0 0 0"/>
        <parent
                link="right_shank_pitch_link"/>
        <child
                link="right_foot_roll_link"/>
        <axis
                xyz="1 0 0"/>
        <limit
                lower="-0.436"
                upper="0.436"
                effort="29.3"
                velocity="13.927"/>
    </joint>
    <link
            name="right_foot_pitch_link">
        <inertial>
            <origin
                    xyz="0.023908 0.00023123 -0.0302"
                    rpy="0 0 0"/>
            <mass
                    value="0.39067"/>
            <inertia
                    ixx="0.00014601"
                    ixy="7.67E-06"
                    ixz="-4.92E-06"
                    iyy="0.00090087"
                    iyz="3.3E-07"
                    izz="0.00084381"/>
        </inertial>
        <visual>
            <origin
                    xyz="0 0 0"
                    rpy="0 0 0"/>
            <geometry>
                <mesh
                        filename="../meshes/right_foot_pitch_link.STL"/>
            </geometry>
            <material
                    name="">
                <color
                        rgba="0.75294 0.75294 0.75294 1"/>
            </material>
        </visual>
        <collision>
            <origin
                    xyz="0 0 0"
                    rpy="0 0 0"/>
            <geometry>
                <mesh
                        filename="../meshes/right_foot_pitch_link.STL"/>
            </geometry>
        </collision>
    </link>
    <joint
            name="right_ankle_pitch_joint"
            type="revolute">
        <origin
                xyz="0 0 0"
                rpy="0 0 0"/>
        <parent
                link="right_foot_roll_link"/>
        <child
                link="right_foot_pitch_link"/>
        <axis
                xyz="0 1 0"/>
        <limit
                lower="-0.96"
                upper="0.838"
                effort="29.3"
                velocity="13.927"/>
    </joint>
</robot>
